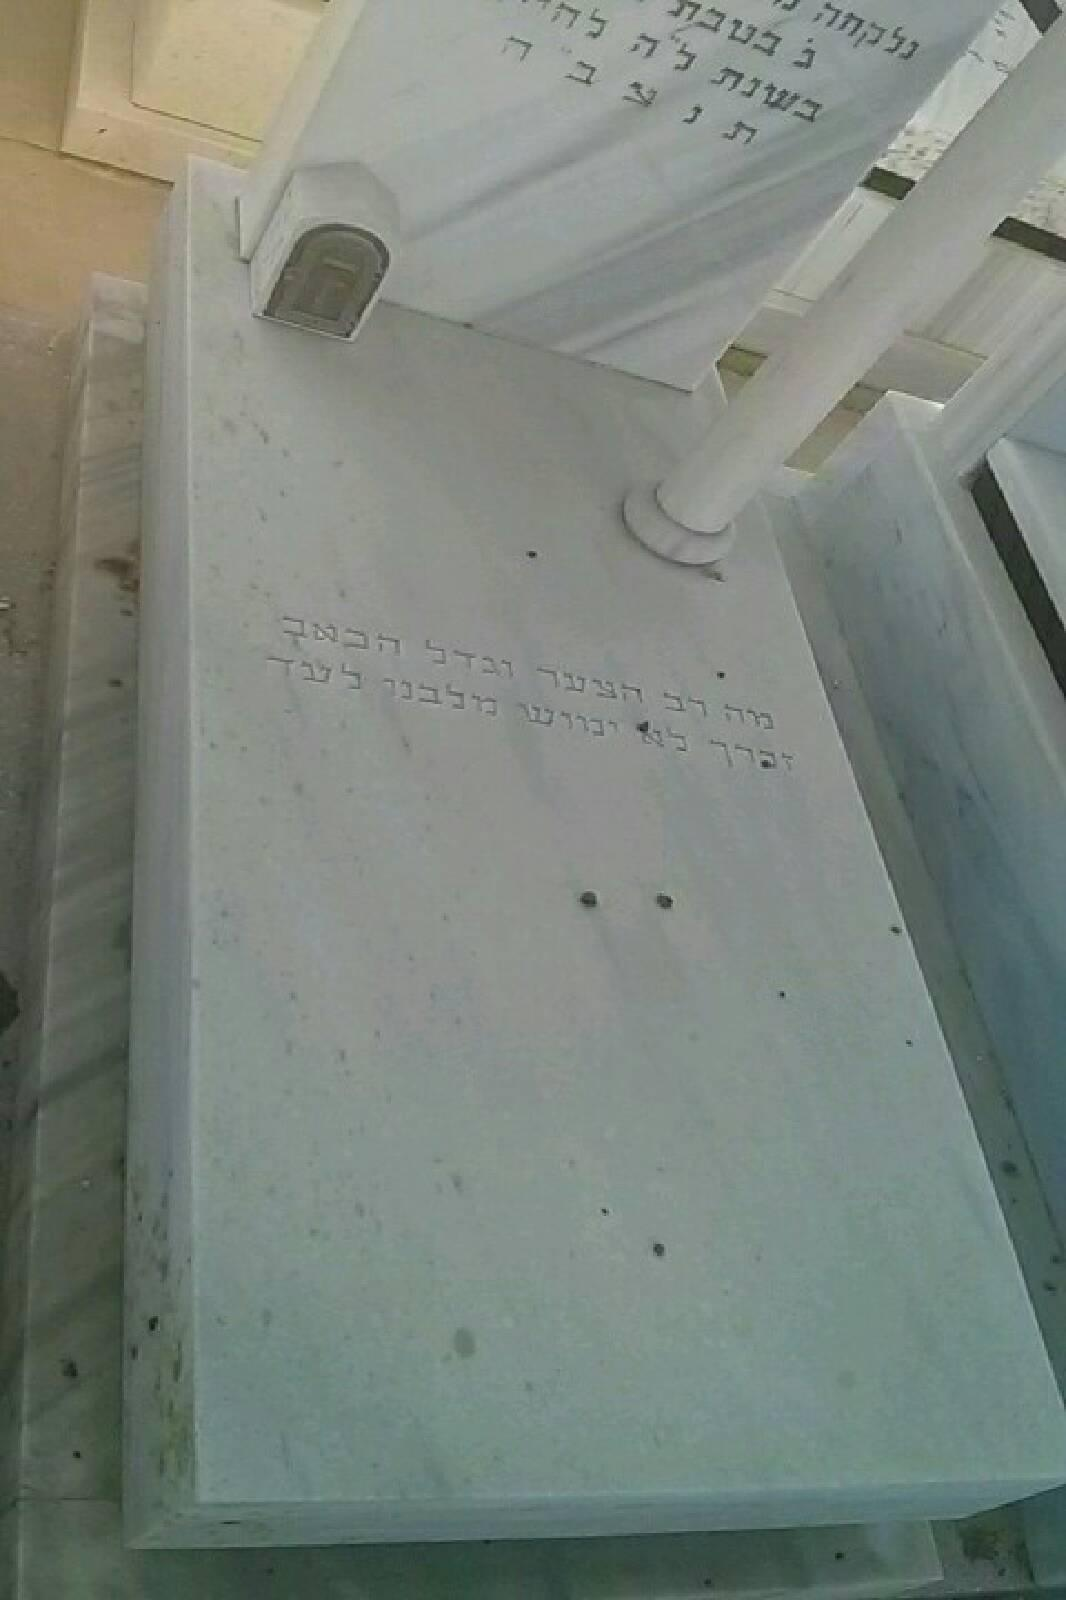vault: (29, 10, 1035, 1571)
